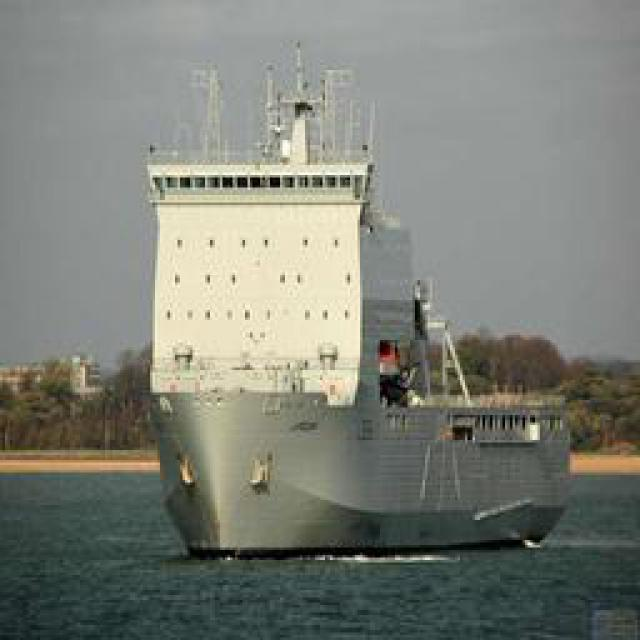Ship: (153, 271, 578, 559)
